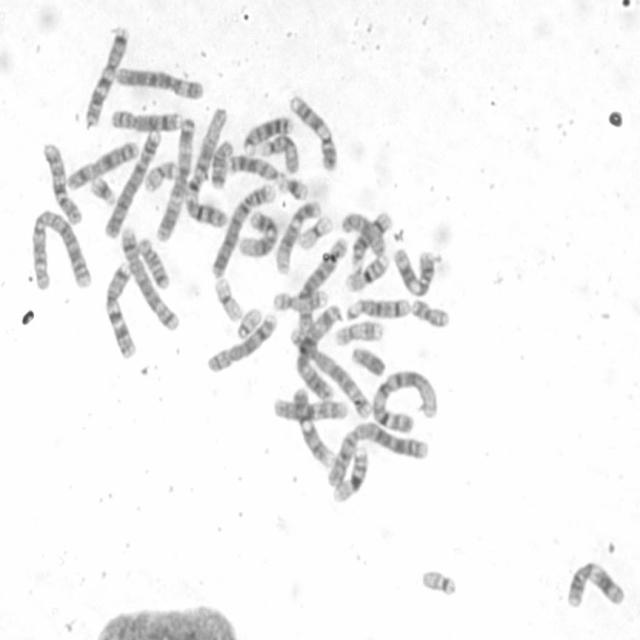A1: (183, 104, 230, 230), (371, 370, 439, 434)
A2: (326, 421, 430, 491), (32, 209, 94, 290)
A3: (155, 115, 198, 244), (295, 303, 343, 403)
B4: (103, 128, 164, 240), (210, 182, 276, 280)
B5: (289, 327, 373, 420), (119, 227, 182, 333)
C10: (42, 141, 84, 226), (272, 396, 349, 422)
C11: (565, 560, 627, 612), (392, 247, 436, 298)
C12: (275, 200, 322, 276), (237, 210, 278, 260)
C6: (298, 236, 348, 337), (115, 64, 204, 100)
C7: (84, 27, 130, 128), (105, 261, 138, 358)
C8: (205, 312, 279, 376), (111, 108, 185, 133)
C9: (288, 94, 338, 172), (290, 387, 337, 468)
D13: (242, 115, 294, 155), (227, 155, 286, 183)
D14: (349, 209, 392, 268), (345, 296, 411, 323)
D15: (340, 212, 386, 260), (262, 134, 300, 175)
E16: (332, 443, 367, 506), (346, 252, 390, 293)
E17: (272, 288, 330, 313), (334, 321, 386, 346)
E18: (135, 235, 171, 290), (209, 140, 233, 191)
F19: (212, 278, 244, 324), (298, 215, 333, 251)
F20: (143, 159, 178, 194), (410, 298, 450, 328)
G21: (90, 174, 117, 208), (275, 176, 309, 203)
G22: (421, 566, 459, 598), (236, 306, 264, 340)
X: (65, 139, 139, 193)
Y: (351, 344, 388, 380)
